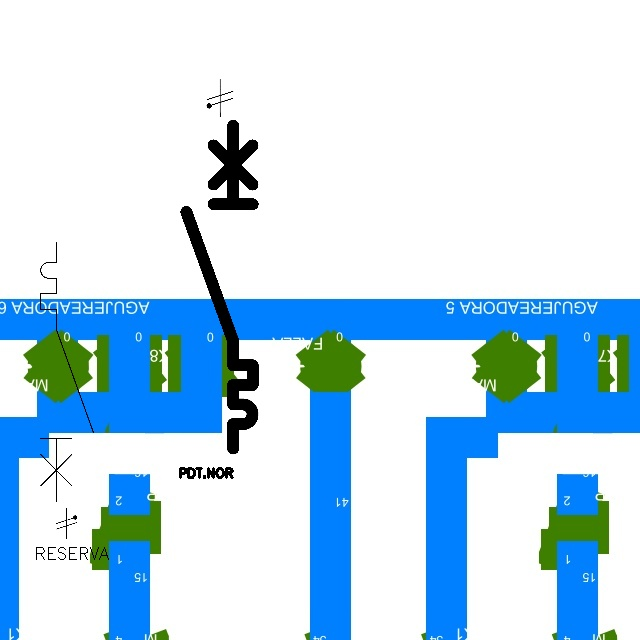interruptor_termomagnetico: (178, 117, 261, 457), (34, 236, 100, 508)
